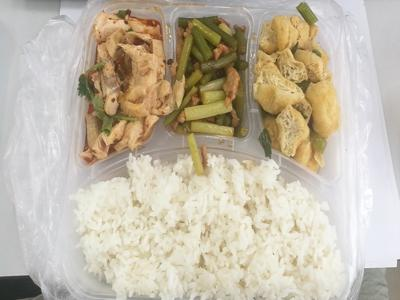j1: (85, 10, 170, 153)
rice: (74, 159, 361, 300)
st: (172, 11, 250, 146)
